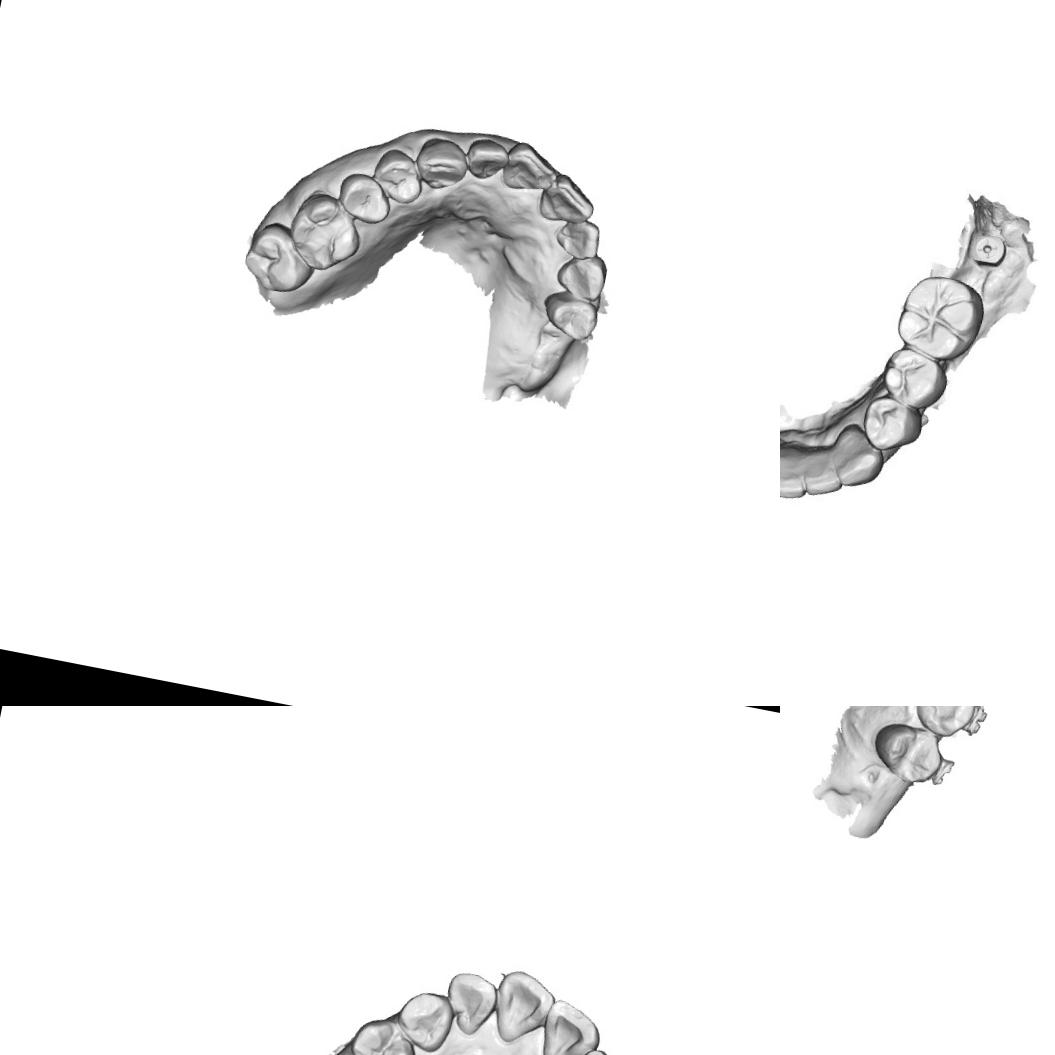canine: (825, 419, 890, 494), (394, 985, 455, 1055), (410, 132, 472, 194), (552, 246, 609, 304), (911, 706, 979, 743)
implant_plus: (964, 224, 1010, 270)
incisor: (490, 967, 557, 1039), (439, 968, 500, 1040), (536, 996, 604, 1055), (536, 170, 600, 230), (500, 138, 562, 198), (798, 439, 849, 502), (461, 134, 513, 185), (552, 212, 604, 262), (780, 441, 812, 503)
molar: (890, 269, 987, 364), (280, 185, 369, 278), (238, 216, 322, 299)
premolar: (875, 344, 955, 417), (866, 716, 943, 787), (856, 394, 927, 456), (331, 168, 396, 228), (536, 286, 603, 344), (368, 144, 429, 207), (348, 1015, 420, 1055)
